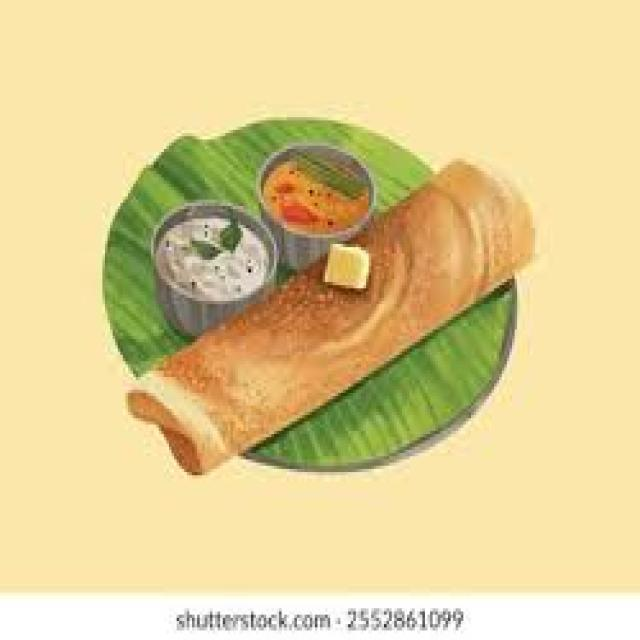DOSA: (115, 153, 537, 474)
